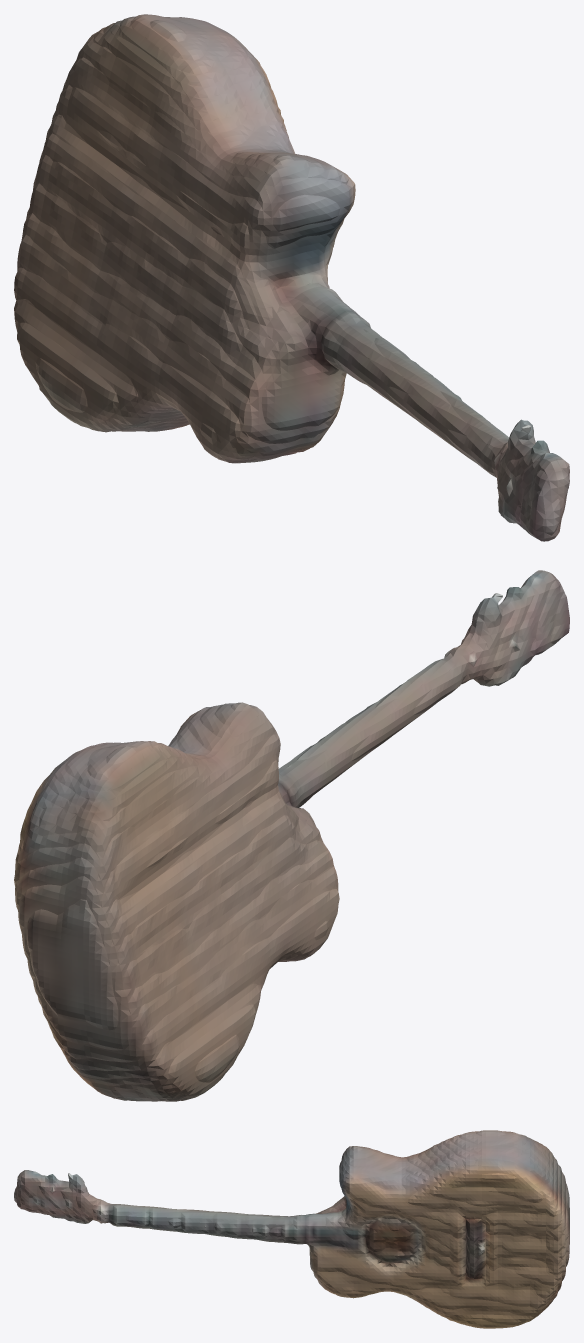
The model's file is guitar-3d.glb.
3 renders of one model, top to bottom at view 1: azimuth 30°, elevation 25°; view 2: azimuth 150°, elevation 25°; view 3: azimuth 270°, elevation 25°, orthographic. The views are drawn at different scales.
Parts seen in each view (by area): view 1: geometry_0; view 2: geometry_0; view 3: geometry_0.
Part boxes in pixels (<box>): geometry_0: <box>14,14,569,541</box>; geometry_0: <box>14,570,569,1101</box>; geometry_0: <box>14,1130,569,1328</box>.
Size of the model in its own units: 0.198 by 0.3839 by 0.9464.
